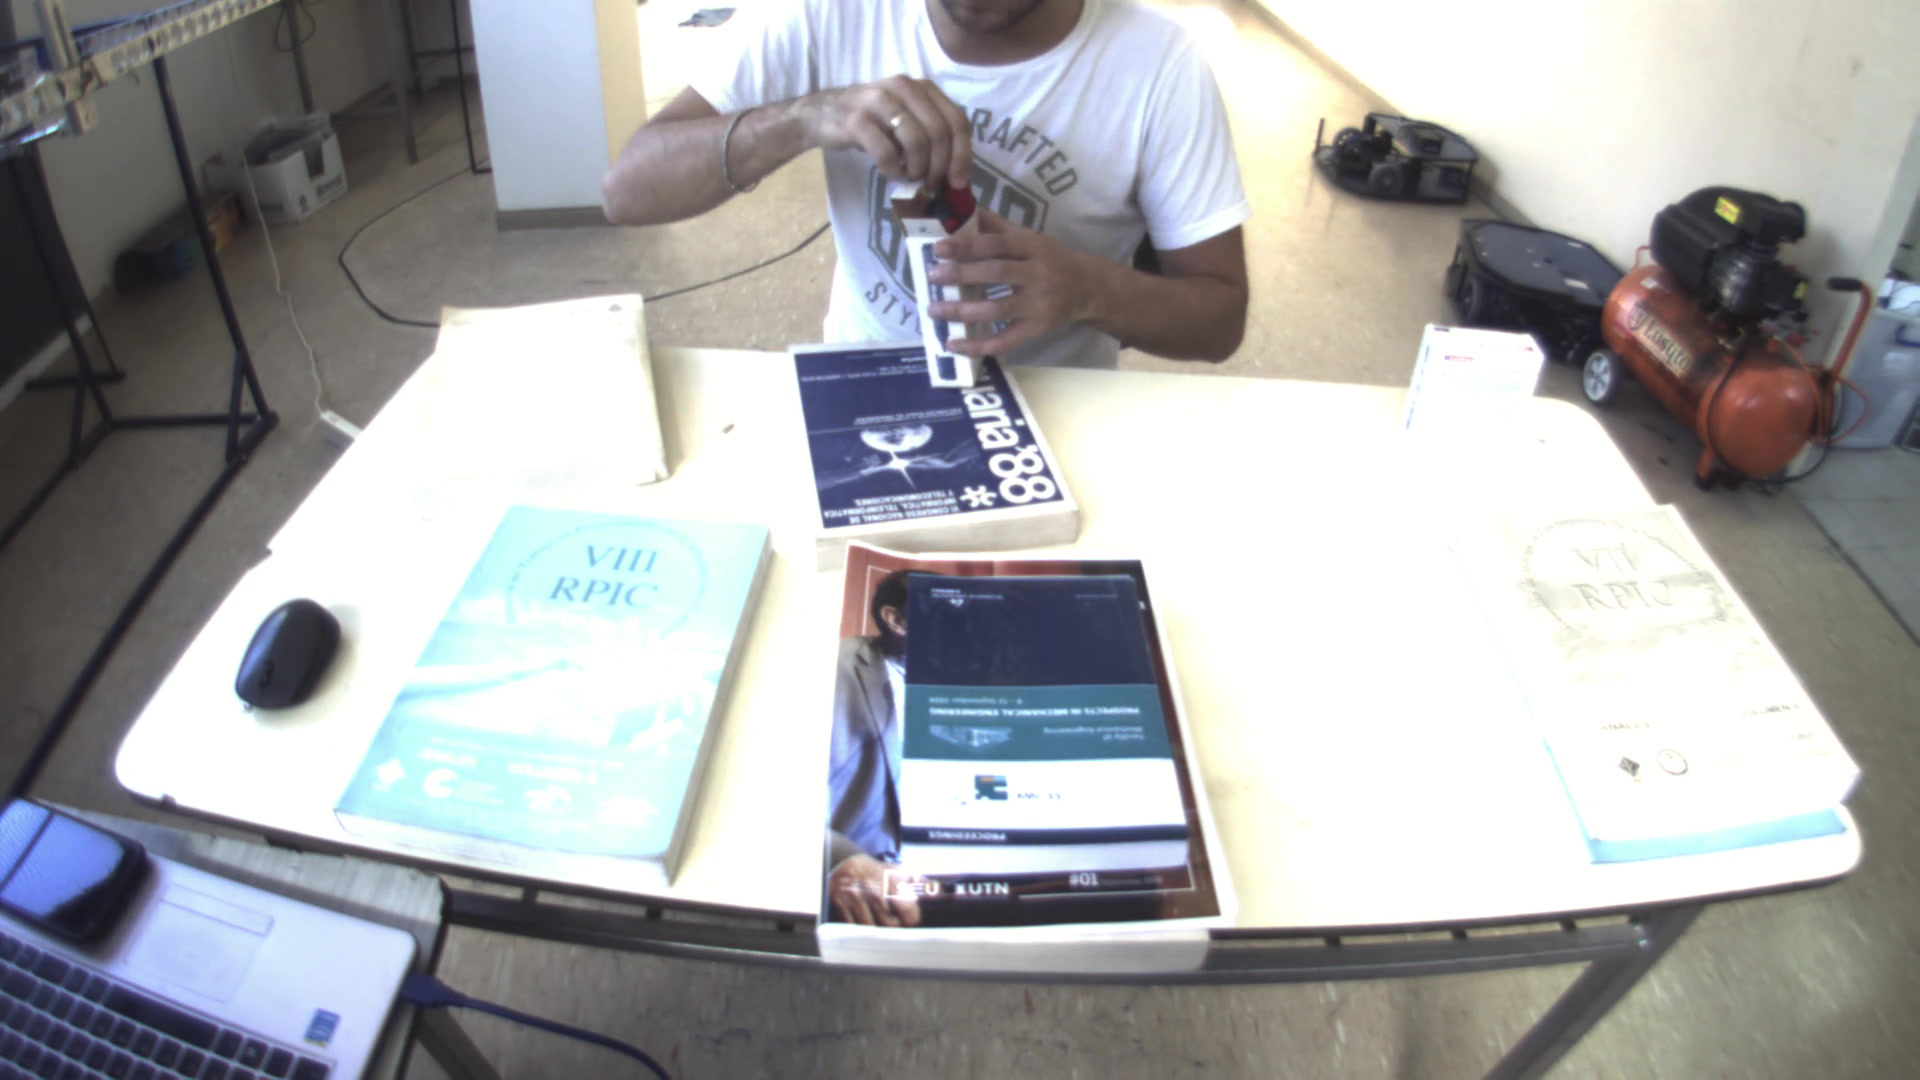hand: (901, 191, 1109, 363), (829, 65, 977, 195)
